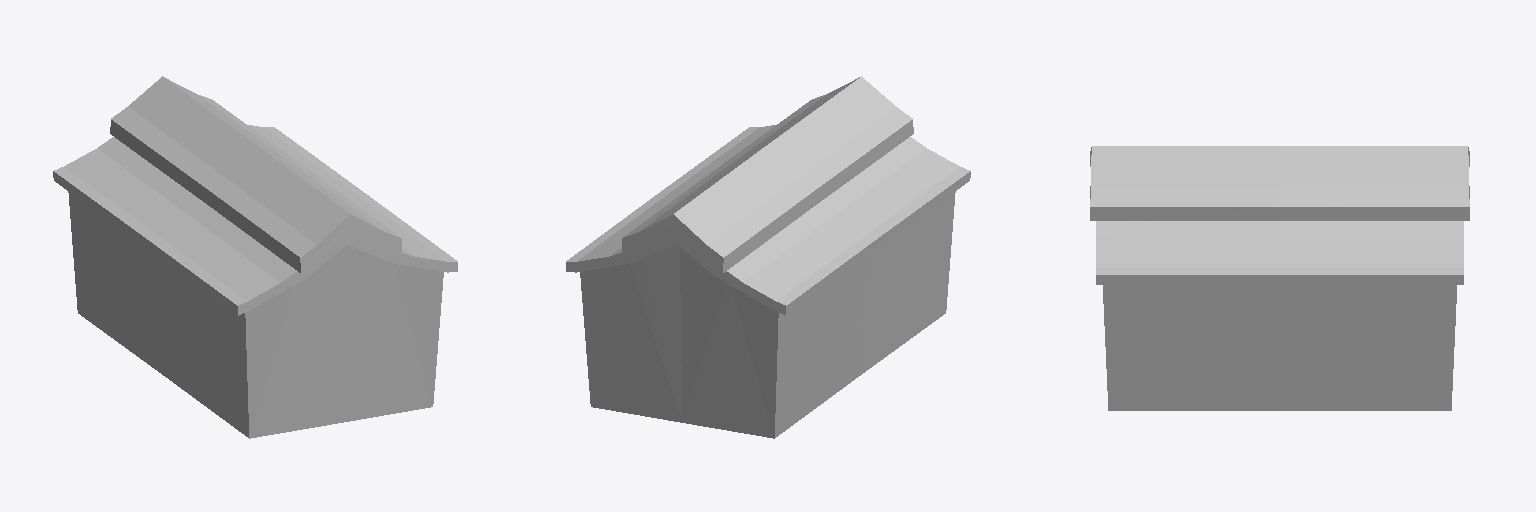
The model's file is MDL_Turret_Top.obj.
The picture shows the model from 3 angles: view 1: azimuth 30°, elevation 25°; view 2: azimuth 150°, elevation 25°; view 3: azimuth 270°, elevation 25°; orthographic projection.
Visible parts, largest first — view 1: MDL_Turret_Top; view 2: MDL_Turret_Top; view 3: MDL_Turret_Top.
Boxes of the visible parts, <box> form: MDL_Turret_Top: <box>53,76,457,438</box>; MDL_Turret_Top: <box>566,76,970,438</box>; MDL_Turret_Top: <box>1090,146,1469,410</box>.
Bounding box in the file's own units: 14.76 × 14.1 × 21.99.